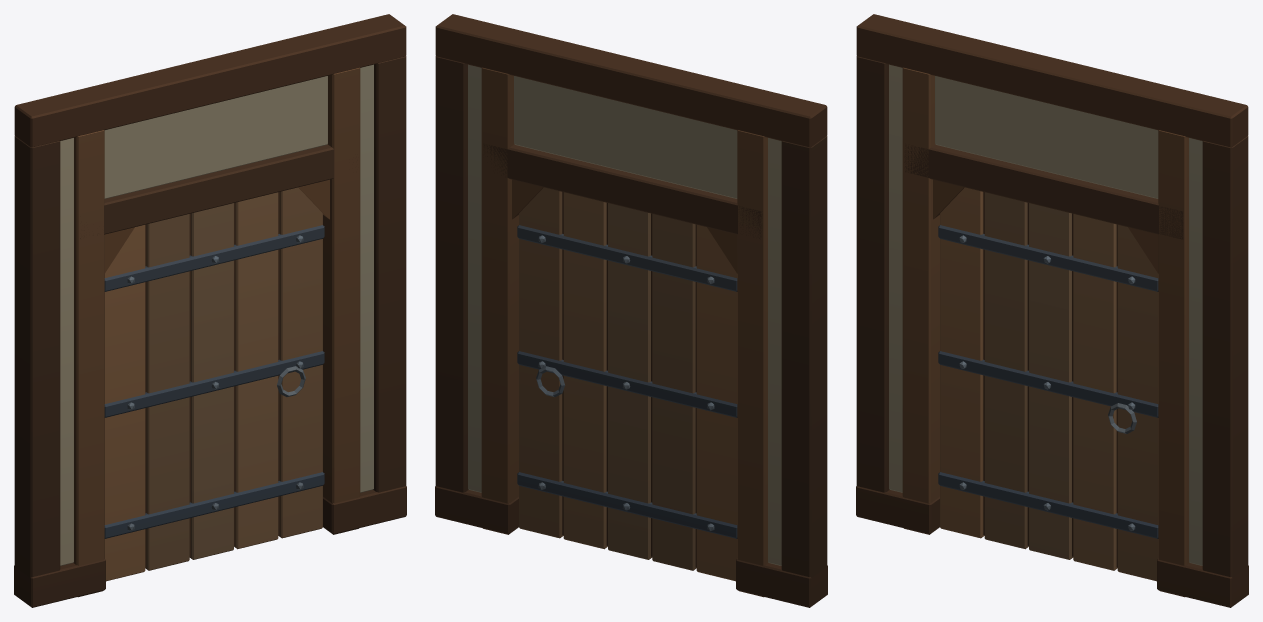
The model's file is piece_wooddoor.glb.
3 renders of one model, left to right at view 1: azimuth 30°, elevation 25°; view 2: azimuth 150°, elevation 25°; view 3: azimuth 330°, elevation 25°, orthographic.
Visible parts, largest first — view 1: Base, Leaf; view 2: Base, Leaf; view 3: Base, Leaf.
Part boxes in pixels (x1,y1,x2,y2): Base: (14, 14, 406, 607); Leaf: (104, 187, 324, 581); Base: (435, 14, 827, 607); Leaf: (517, 187, 737, 581); Base: (856, 14, 1248, 607); Leaf: (938, 187, 1158, 581).
Size of the model in its own units: 4 by 5 by 0.34.
